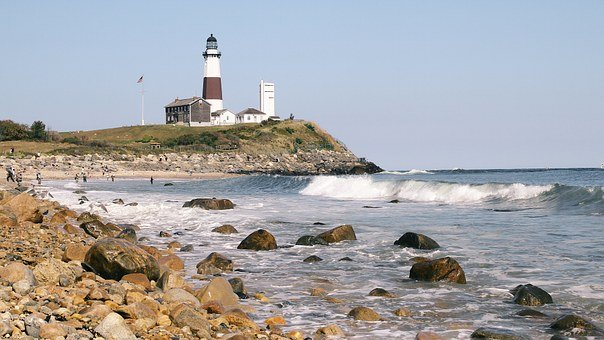sea: (23, 175, 596, 340)
sky: (5, 4, 604, 170)
